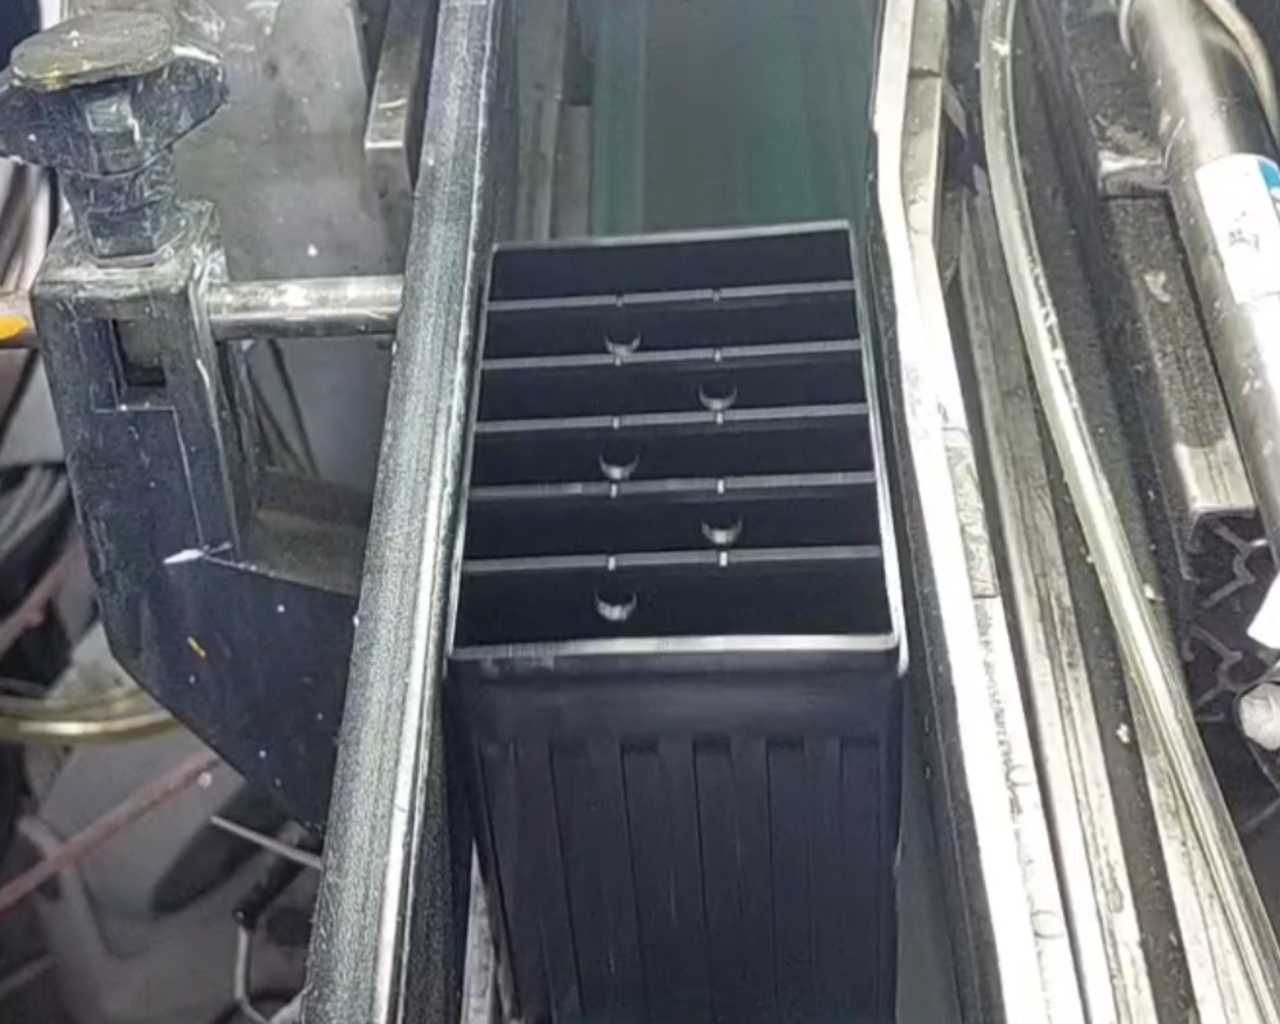box: (432, 201, 928, 694)
round: (588, 425, 656, 489), (582, 571, 648, 634), (683, 363, 748, 420), (688, 496, 753, 553), (587, 308, 653, 363)
